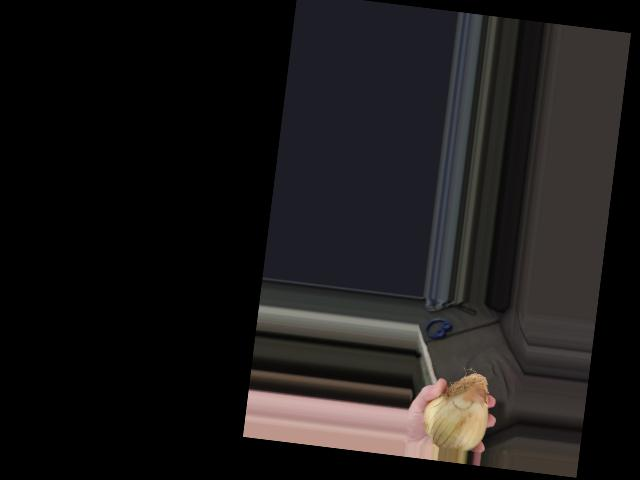onion: (421, 366, 493, 449)
